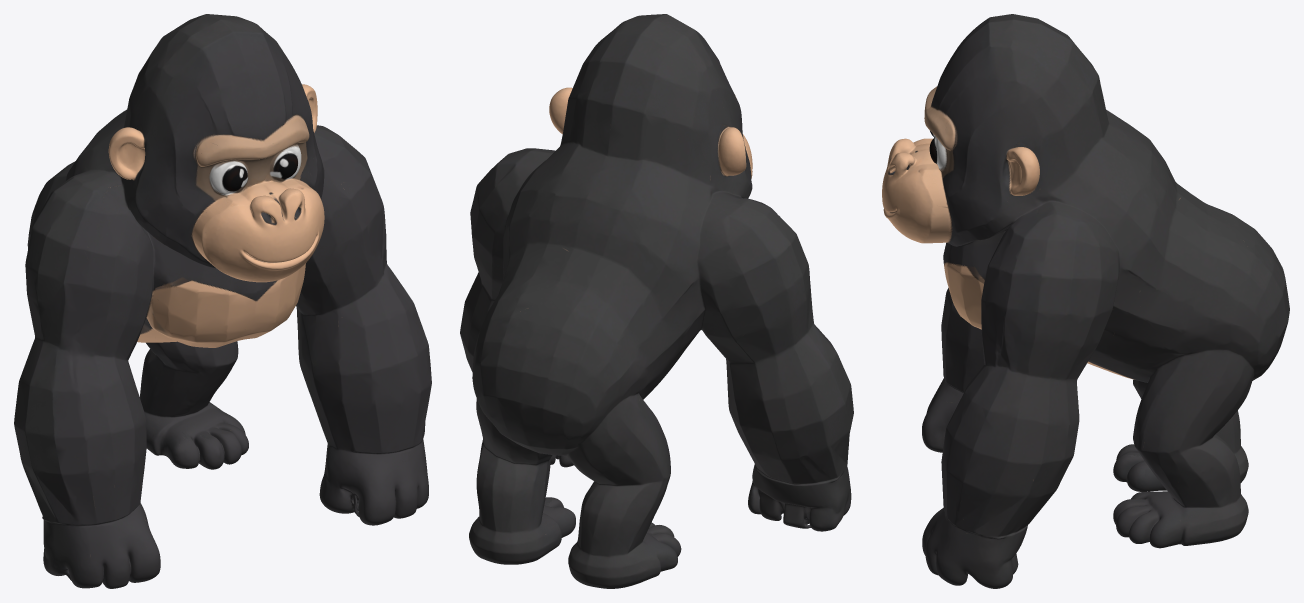
The model's file is gorilla.glb.
3 views of the same model, side by side, from view 1: azimuth 30°, elevation 25°; view 2: azimuth 150°, elevation 25°; view 3: azimuth 270°, elevation 25° (orthographic). The views are drawn at different scales.
Bounding box in the file's own units: 1.57 × 1.9 × 1.44.
Materials: 1 (1 with a texture image).
